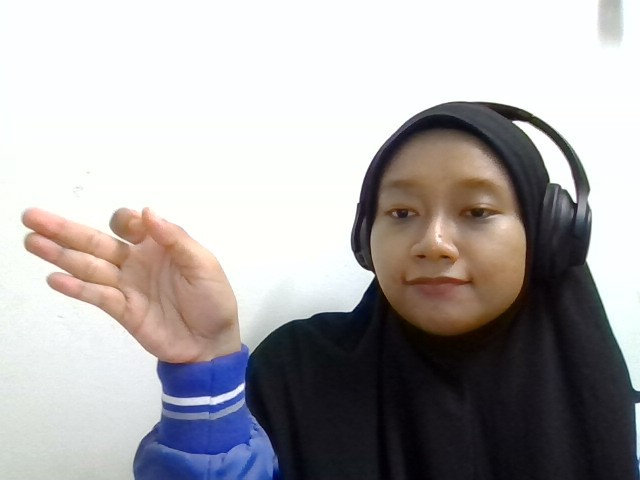Tudung: (21, 203, 241, 363)
